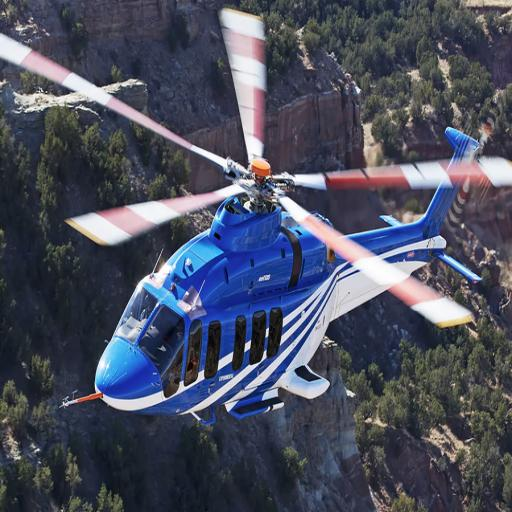helicopter: (61, 11, 508, 442)
